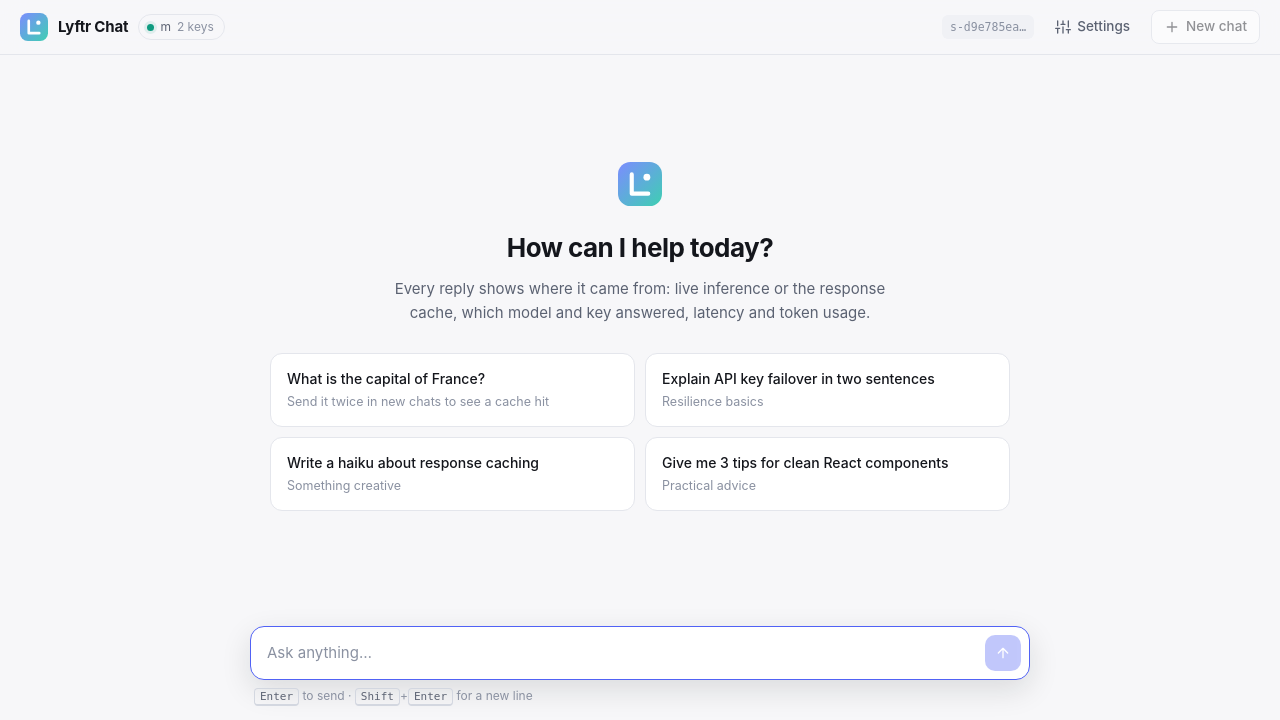
App › shows 422 validation details in the chat
Type "hi" into the text box with test id "chat-input" at (622, 654), box [267, 636, 977, 671]
Then press Enter
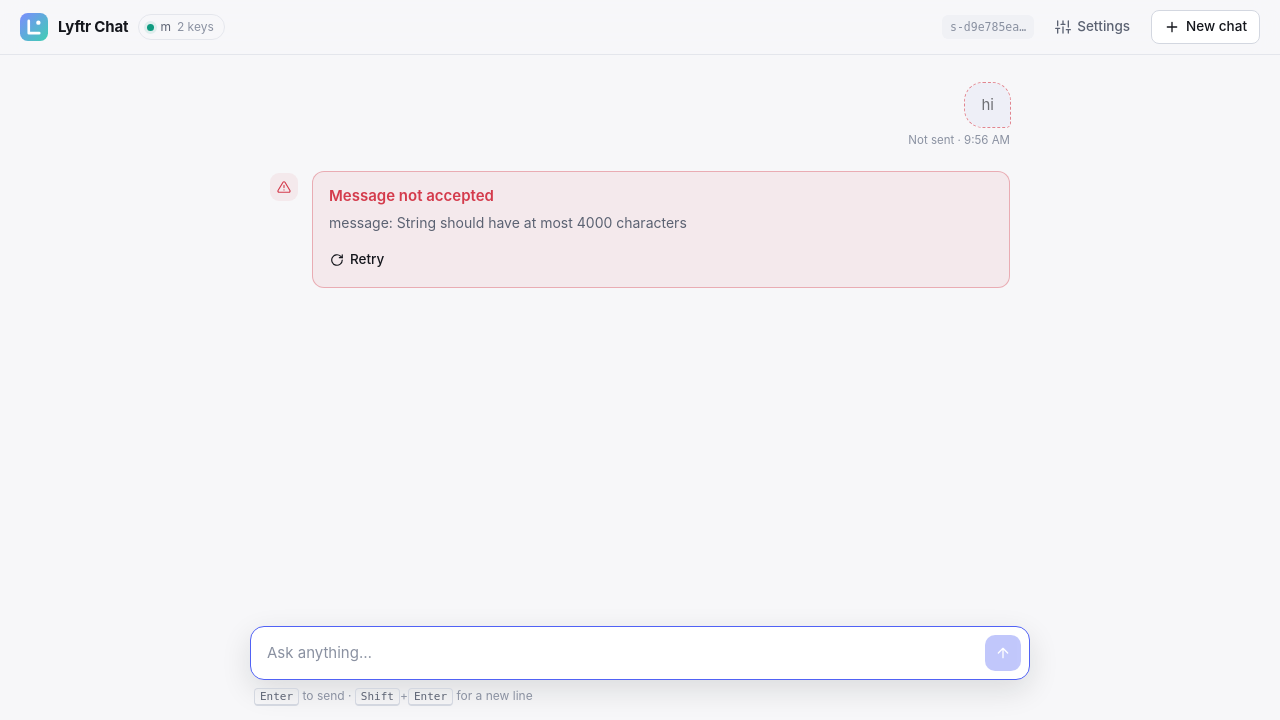
Check: the message with test id "error-message" shows "message: String should have at most 4000 characters", box [329, 214, 687, 231]
